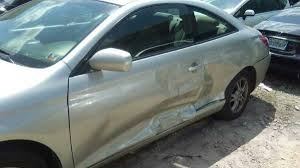Dent: (128, 56, 216, 141)
